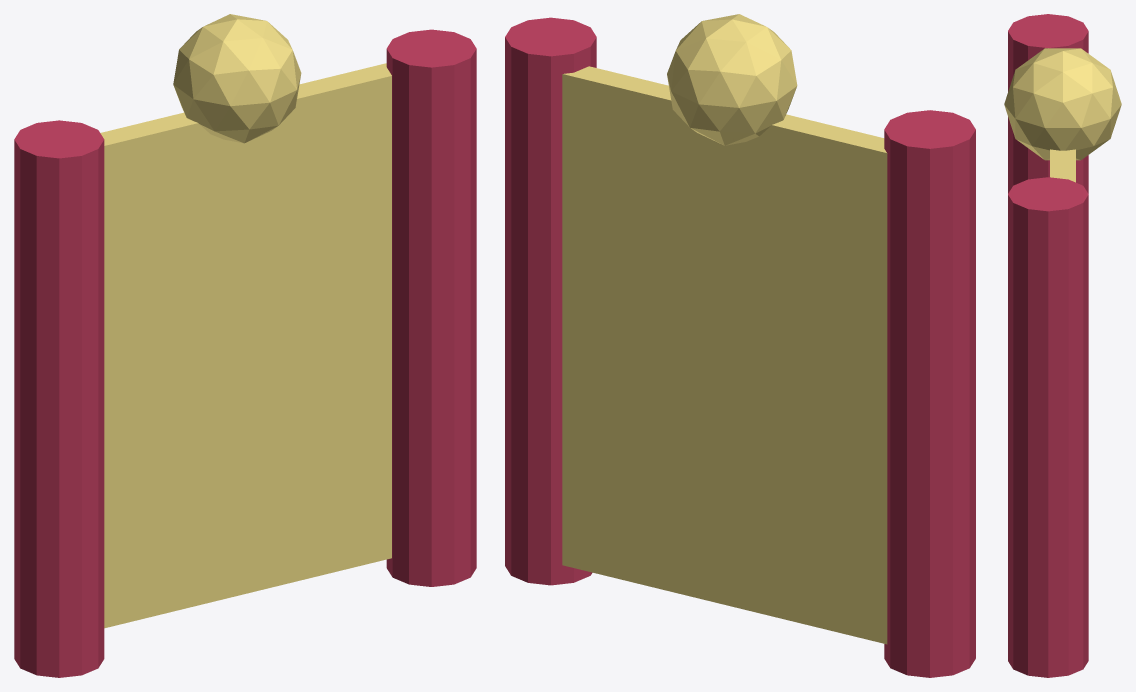
The model's file is crystal_theater_mirror.glb.
3 views of the same model, side by side, from view 1: azimuth 30°, elevation 25°; view 2: azimuth 150°, elevation 25°; view 3: azimuth 270°, elevation 25° (orthographic). The views are drawn at different scales.
Visible parts, largest first — view 1: Cube, Cylinder, Cylinder.001, Icosphere; view 2: Cube, Cylinder, Cylinder.001, Icosphere; view 3: Cylinder.001, Icosphere, Cylinder, Cube.
Boxes of the visible parts, bbox=[...] form: Cube: bbox=[100, 63, 391, 628]; Cylinder: bbox=[14, 120, 104, 677]; Cylinder.001: bbox=[386, 29, 476, 586]; Icosphere: bbox=[173, 14, 301, 143]; Cube: bbox=[562, 66, 887, 644]; Cylinder: bbox=[884, 110, 975, 677]; Cylinder.001: bbox=[505, 17, 596, 585]; Icosphere: bbox=[667, 14, 797, 145]; Cylinder.001: bbox=[1008, 177, 1088, 677]; Icosphere: bbox=[1004, 48, 1121, 160]; Cylinder: bbox=[1008, 14, 1088, 193]; Cube: bbox=[1050, 149, 1075, 182].
Bounding box in the file's own units: 2.54 × 3.17 × 0.64.
